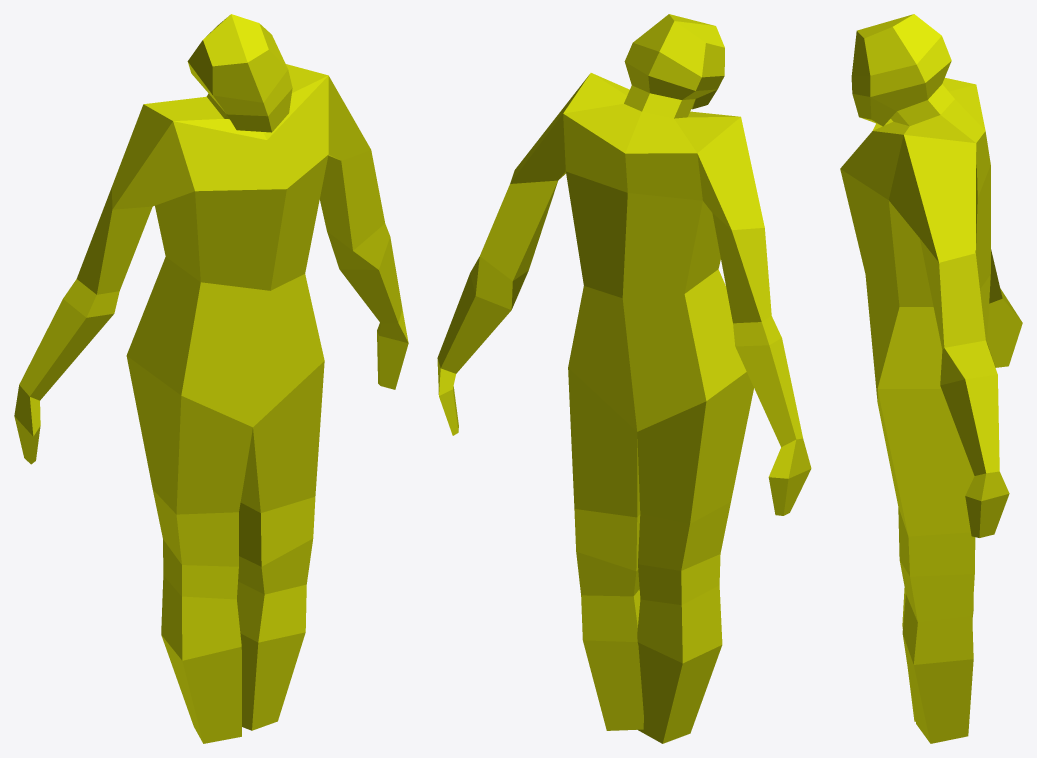
The model's file is Avatar1.fbx.
3 views of the same model, side by side, from view 1: azimuth 30°, elevation 25°; view 2: azimuth 150°, elevation 25°; view 3: azimuth 270°, elevation 25° (orthographic). The views are drawn at different scales.
Visible parts, largest first — view 1: Cube; view 2: Cube; view 3: Cube.
Part boxes in pixels (left/top/right/bottom): Cube: left=14, top=14, right=408, bottom=743; Cube: left=437, top=14, right=811, bottom=743; Cube: left=840, top=14, right=1022, bottom=743.
Bounding box in the file's own units: 178 × 326 × 76.48.
